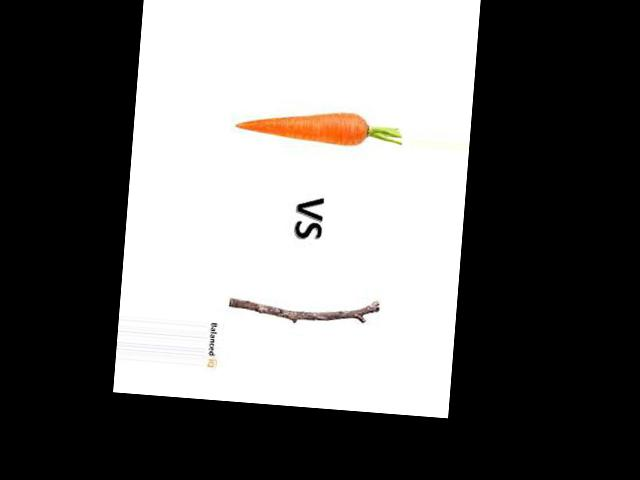carrot: (230, 98, 373, 157)
